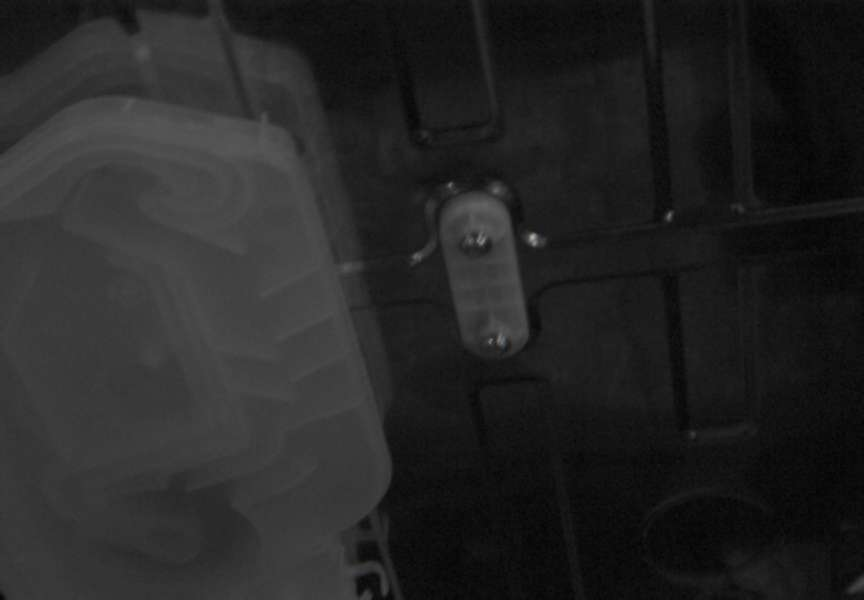screw: (460, 230, 492, 257), (482, 332, 511, 356)
